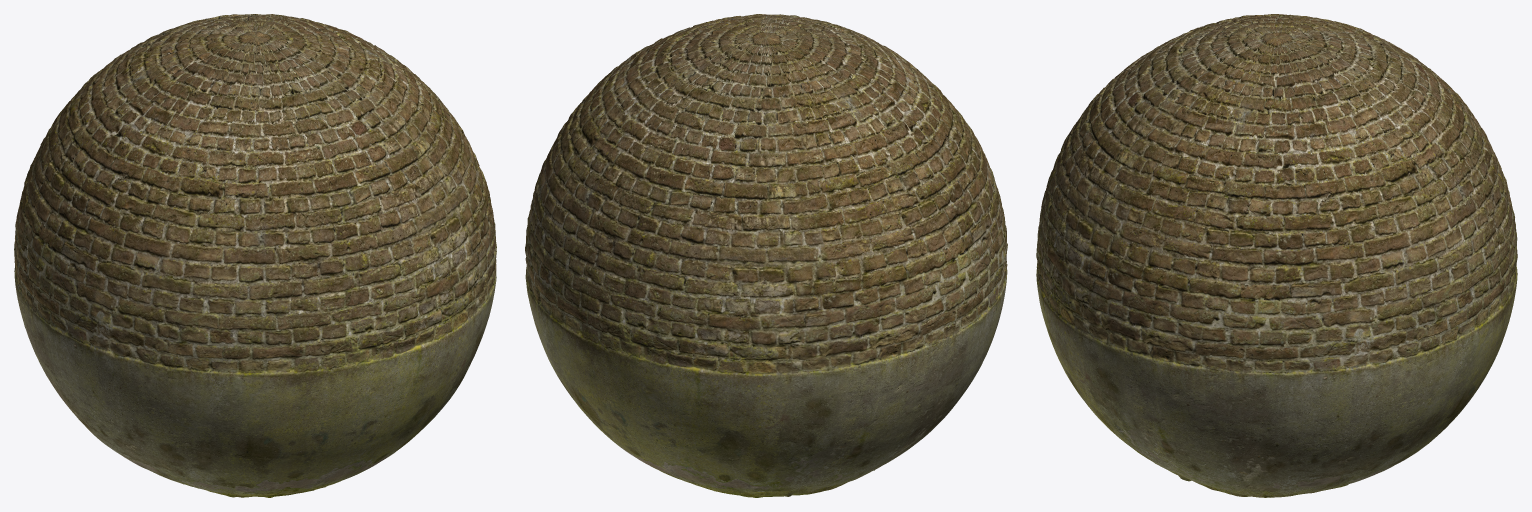
File: plaster_brick_01_1k.gltf
The picture shows the model from 3 angles, left to right: view 1: azimuth 30°, elevation 25°; view 2: azimuth 150°, elevation 25°; view 3: azimuth 270°, elevation 25°; orthographic projection.
Parts seen in each view (by area): view 1: sphere_gltf; view 2: sphere_gltf; view 3: sphere_gltf.
Part boxes in pixels (x1,y1,x2,y2): sphere_gltf: (14,14,496,497); sphere_gltf: (525,14,1007,497); sphere_gltf: (1036,14,1517,497).
Bounding box in the file's own units: 2.71 × 2.72 × 2.7.
1 material, 1 textured.
